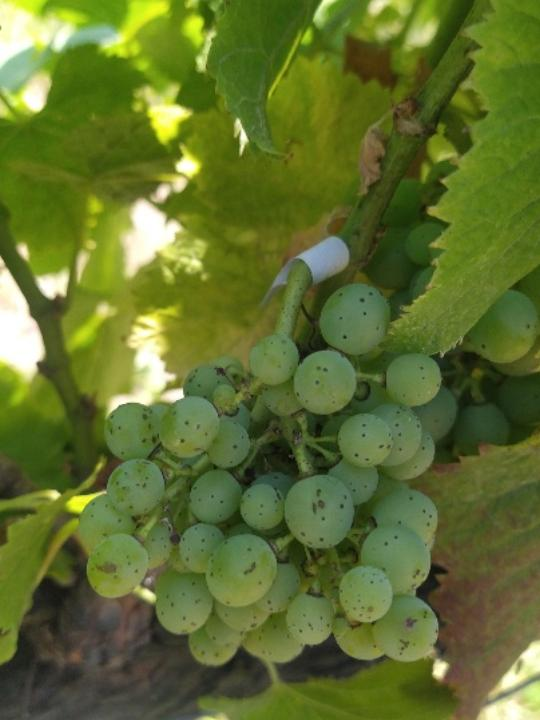grape: (76, 278, 536, 669)
